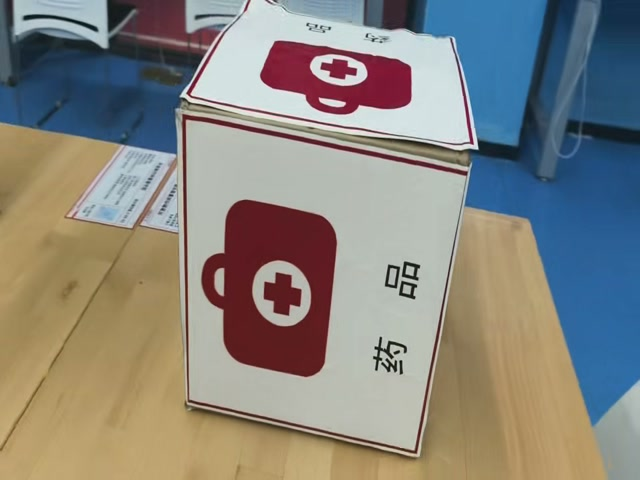Cube_medicine: (171, 5, 473, 163)
